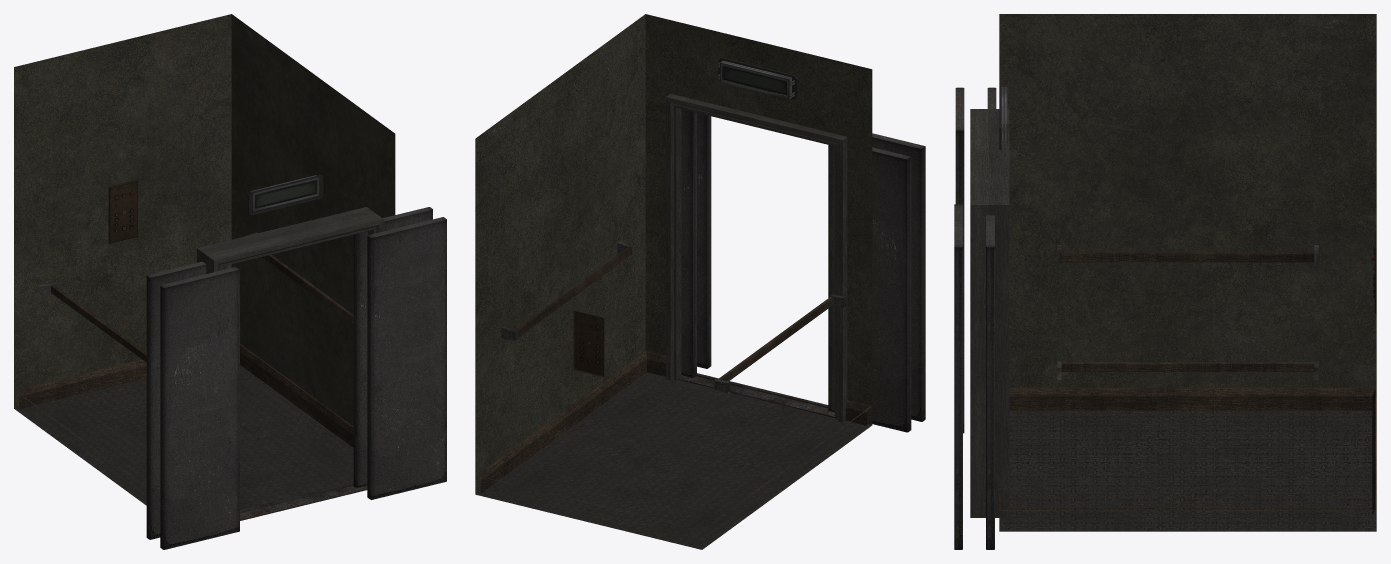
File: elevator_1.glb
3 views of the same model, side by side, from view 1: azimuth 30°, elevation 25°; view 2: azimuth 150°, elevation 25°; view 3: azimuth 270°, elevation 25° (orthographic). The views are drawn at different scales.
Visible parts, largest first — view 1: elevator_1, elevator_door_1_a, elevator_door_1_b, elevator_door_2_b, elevator_door_2_a; view 2: elevator_1, elevator_door_2_b, elevator_door_1_b, elevator_door_2_a, elevator_door_1_a; view 3: elevator_1, elevator_door_1_a, elevator_door_2_a, elevator_door_1_b.
Part boxes in pixels (box(x1,y1,x2,y2)): elevator_1: box(14, 14, 395, 520); elevator_door_1_a: box(367, 217, 446, 499); elevator_door_1_b: box(160, 267, 239, 549); elevator_door_2_b: box(146, 261, 225, 539); elevator_door_2_a: box(353, 207, 432, 487); elevator_1: box(475, 14, 872, 549); elevator_door_2_b: box(828, 145, 911, 432); elevator_door_1_b: box(872, 133, 925, 421); elevator_door_2_a: box(681, 109, 696, 377); elevator_door_1_a: box(697, 113, 711, 368); elevator_1: box(970, 14, 1376, 531); elevator_door_1_a: box(954, 204, 962, 549); elevator_door_2_a: box(986, 215, 994, 549); elevator_door_1_b: box(955, 87, 964, 433).
Size of the model in its own units: 2.6 by 3 by 2.91.
Materials: 8 (8 with a texture image).
